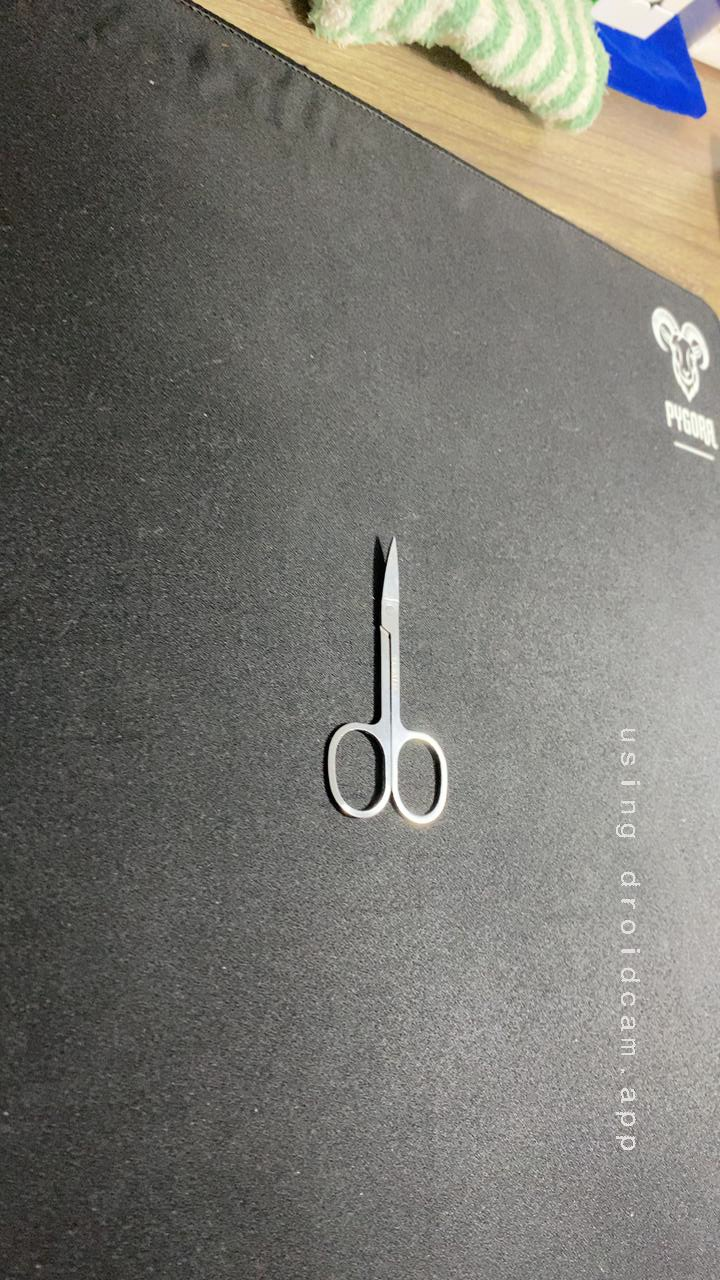scissor: (297, 523, 476, 839)
